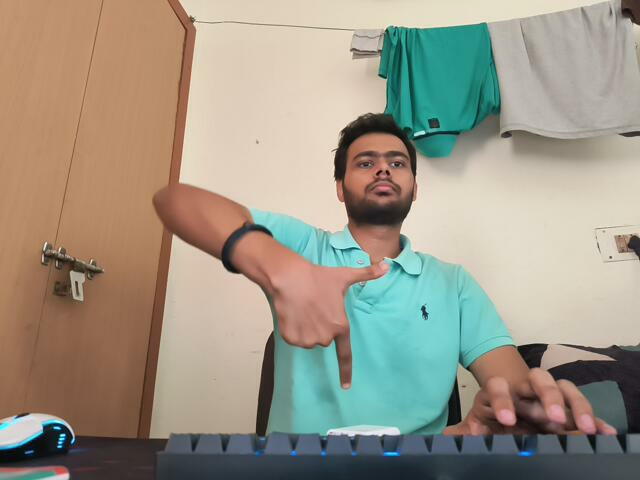tk2: (251, 258, 392, 391)
